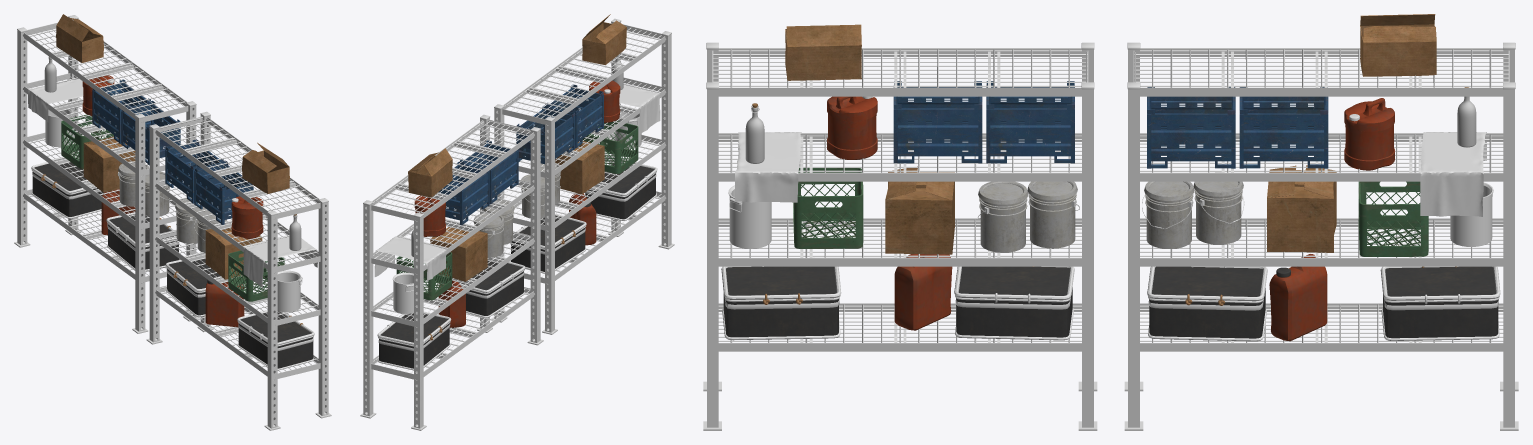
File: Shelves.fbx
3 views of the same model, side by side, from view 1: azimuth 30°, elevation 25°; view 2: azimuth 150°, elevation 25°; view 3: azimuth 270°, elevation 25° (orthographic). The views are drawn at different scales.
Visible parts, largest first — view 1: Shelves; view 2: Shelves; view 3: Shelves.
Boxes of the visible parts, x1=… form: Shelves: x1=14, y1=14, x2=331, y2=430; Shelves: x1=360, y1=14, x2=674, y2=430; Shelves: x1=703, y1=14, x2=1518, y2=430.
Bounding box in the file's own units: 0.6 × 2.28 × 4.34.
